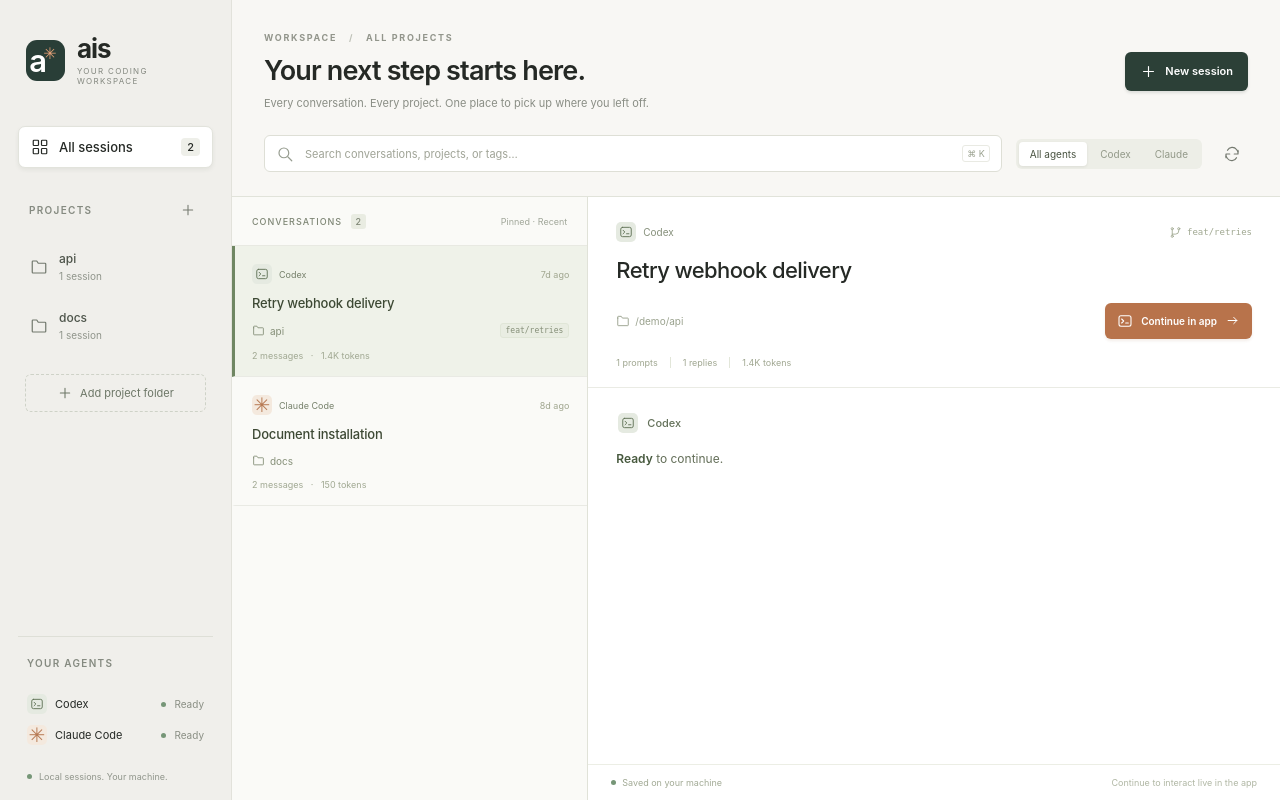
it: desktop workflows › shows launch failures without a false success notification
This screenshot has width=1280, height=800.
Check: the heading "Retry webhook delivery" is shown, box [616, 257, 852, 283]
Click the button "Continue in app" at (1179, 321), box [1105, 303, 1252, 339]
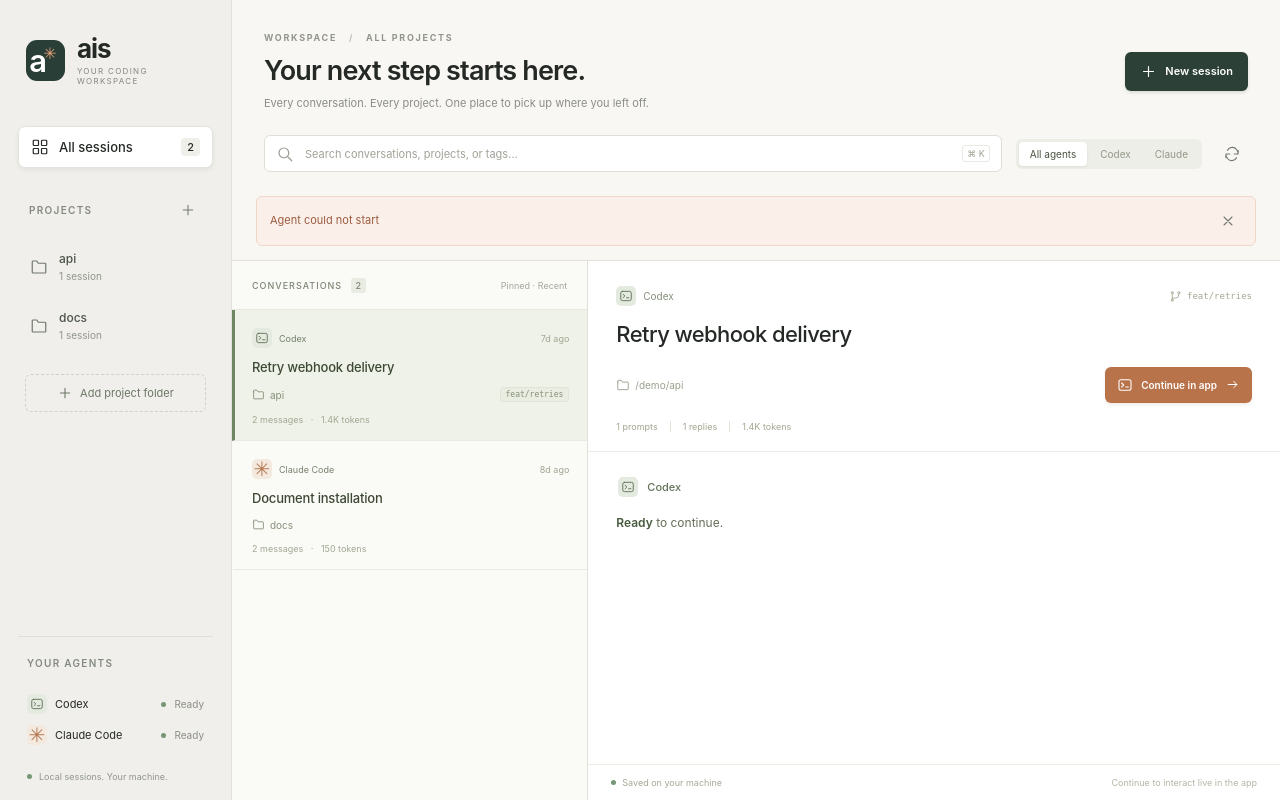
Check: the message reads "Agent could not start", box [270, 213, 379, 227]
